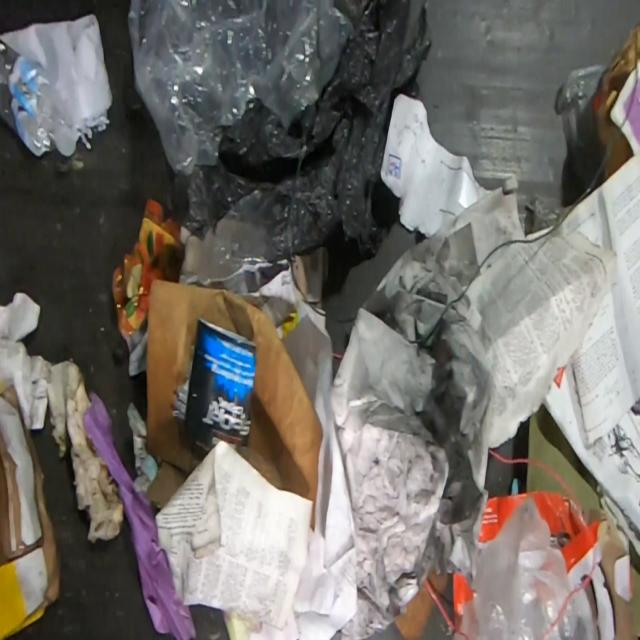cardboard: (146, 278, 321, 512), (478, 489, 635, 639), (0, 381, 62, 638), (528, 405, 602, 511), (590, 24, 640, 178), (452, 572, 470, 627)
rigid_plastic: (1, 39, 77, 156), (553, 62, 608, 192)
soft_plastic: (172, 1, 431, 294), (127, 0, 363, 173), (452, 495, 597, 640), (172, 194, 276, 288)
